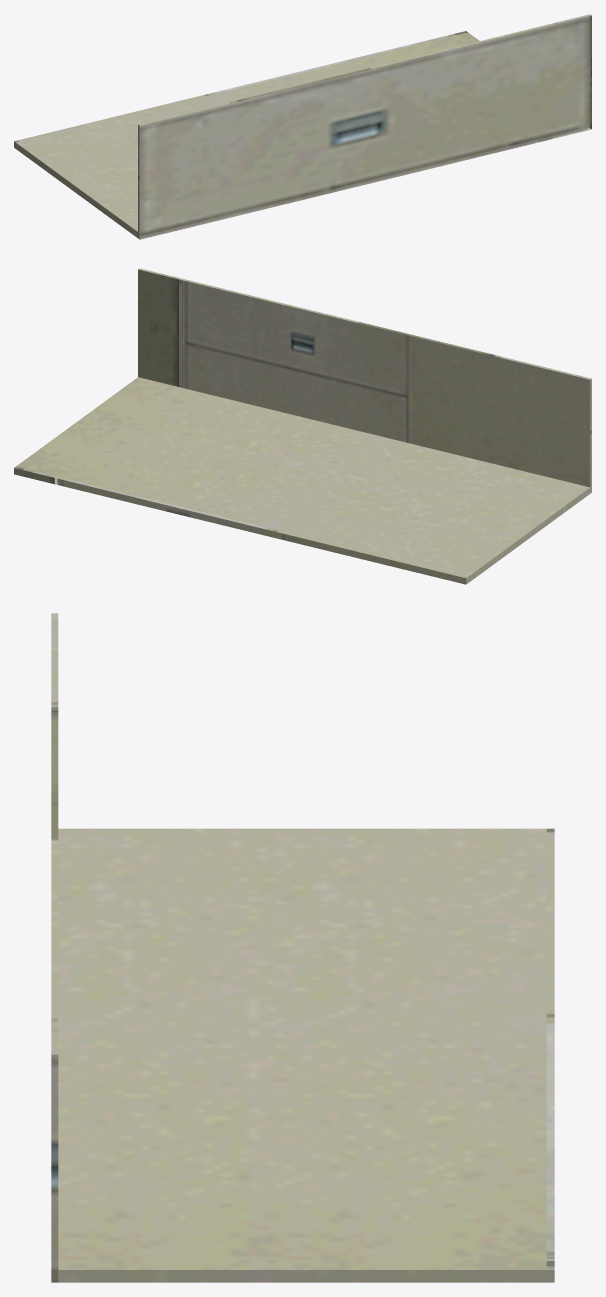
The model's file is file_cabinet_large_shelf.obj.
3 renders of one model, top to bottom at view 1: azimuth 30°, elevation 25°; view 2: azimuth 150°, elevation 25°; view 3: azimuth 270°, elevation 25°, orthographic. The views are drawn at different scales.
Parts seen in each view (by area): view 1: file_cabinet_large_shelf; view 2: file_cabinet_large_shelf; view 3: file_cabinet_large_shelf.
Part boxes in pixels (x1=…): file_cabinet_large_shelf: x1=14, y1=14, x2=591, y2=239; file_cabinet_large_shelf: x1=14, y1=268, x2=591, y2=584; file_cabinet_large_shelf: x1=51, y1=613, x2=554, y2=1282.
Bounding box in the file's own units: 1.43 × 0.3443 × 0.6888.
